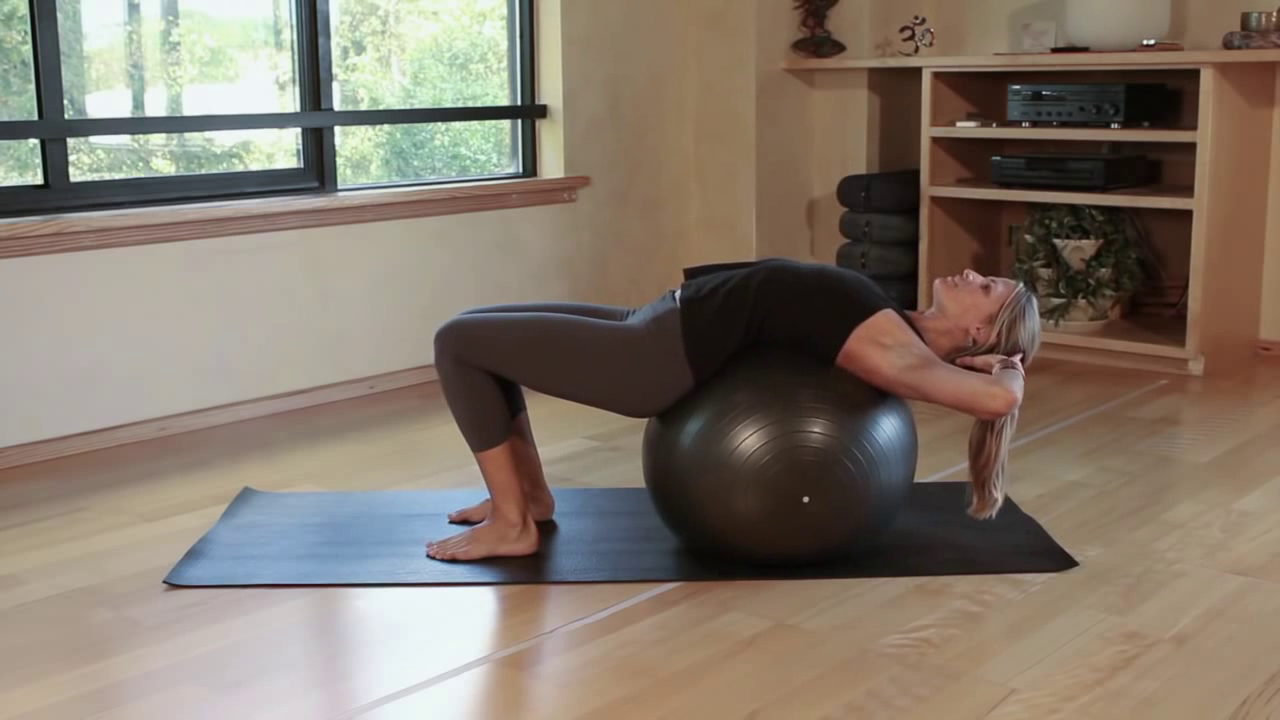yogaball: (637, 341, 928, 566)
